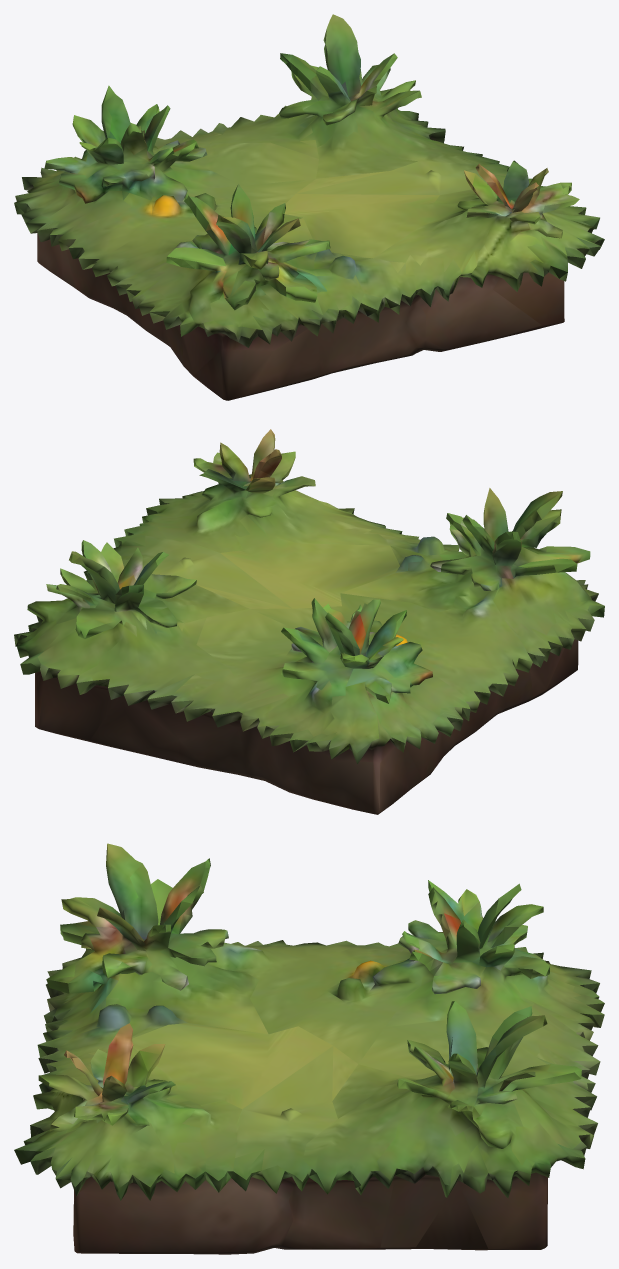
The model's file is t01_grama.glb.
The picture shows the model from 3 angles, top to bottom: view 1: azimuth 30°, elevation 25°; view 2: azimuth 150°, elevation 25°; view 3: azimuth 270°, elevation 25°; orthographic projection. The views are drawn at different scales.
Visible parts, largest first — view 1: t01_grama; view 2: t01_grama; view 3: t01_grama.
Boxes of the visible parts, x1=… form: t01_grama: x1=14, y1=14, x2=604, y2=400; t01_grama: x1=14, y1=429, x2=604, y2=814; t01_grama: x1=14, y1=843, x2=604, y2=1254.
Size of the model in its own units: 1.21 by 0.4841 by 1.18.
Materials: 1 (1 with a texture image).
